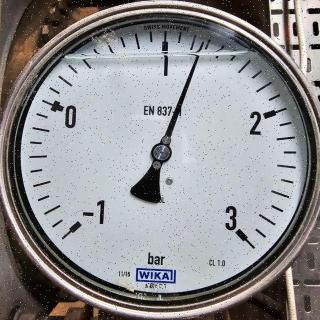gauge: (0, 0, 320, 320), (58, 198, 104, 248), (220, 212, 255, 248), (150, 141, 172, 163), (198, 38, 208, 52)
